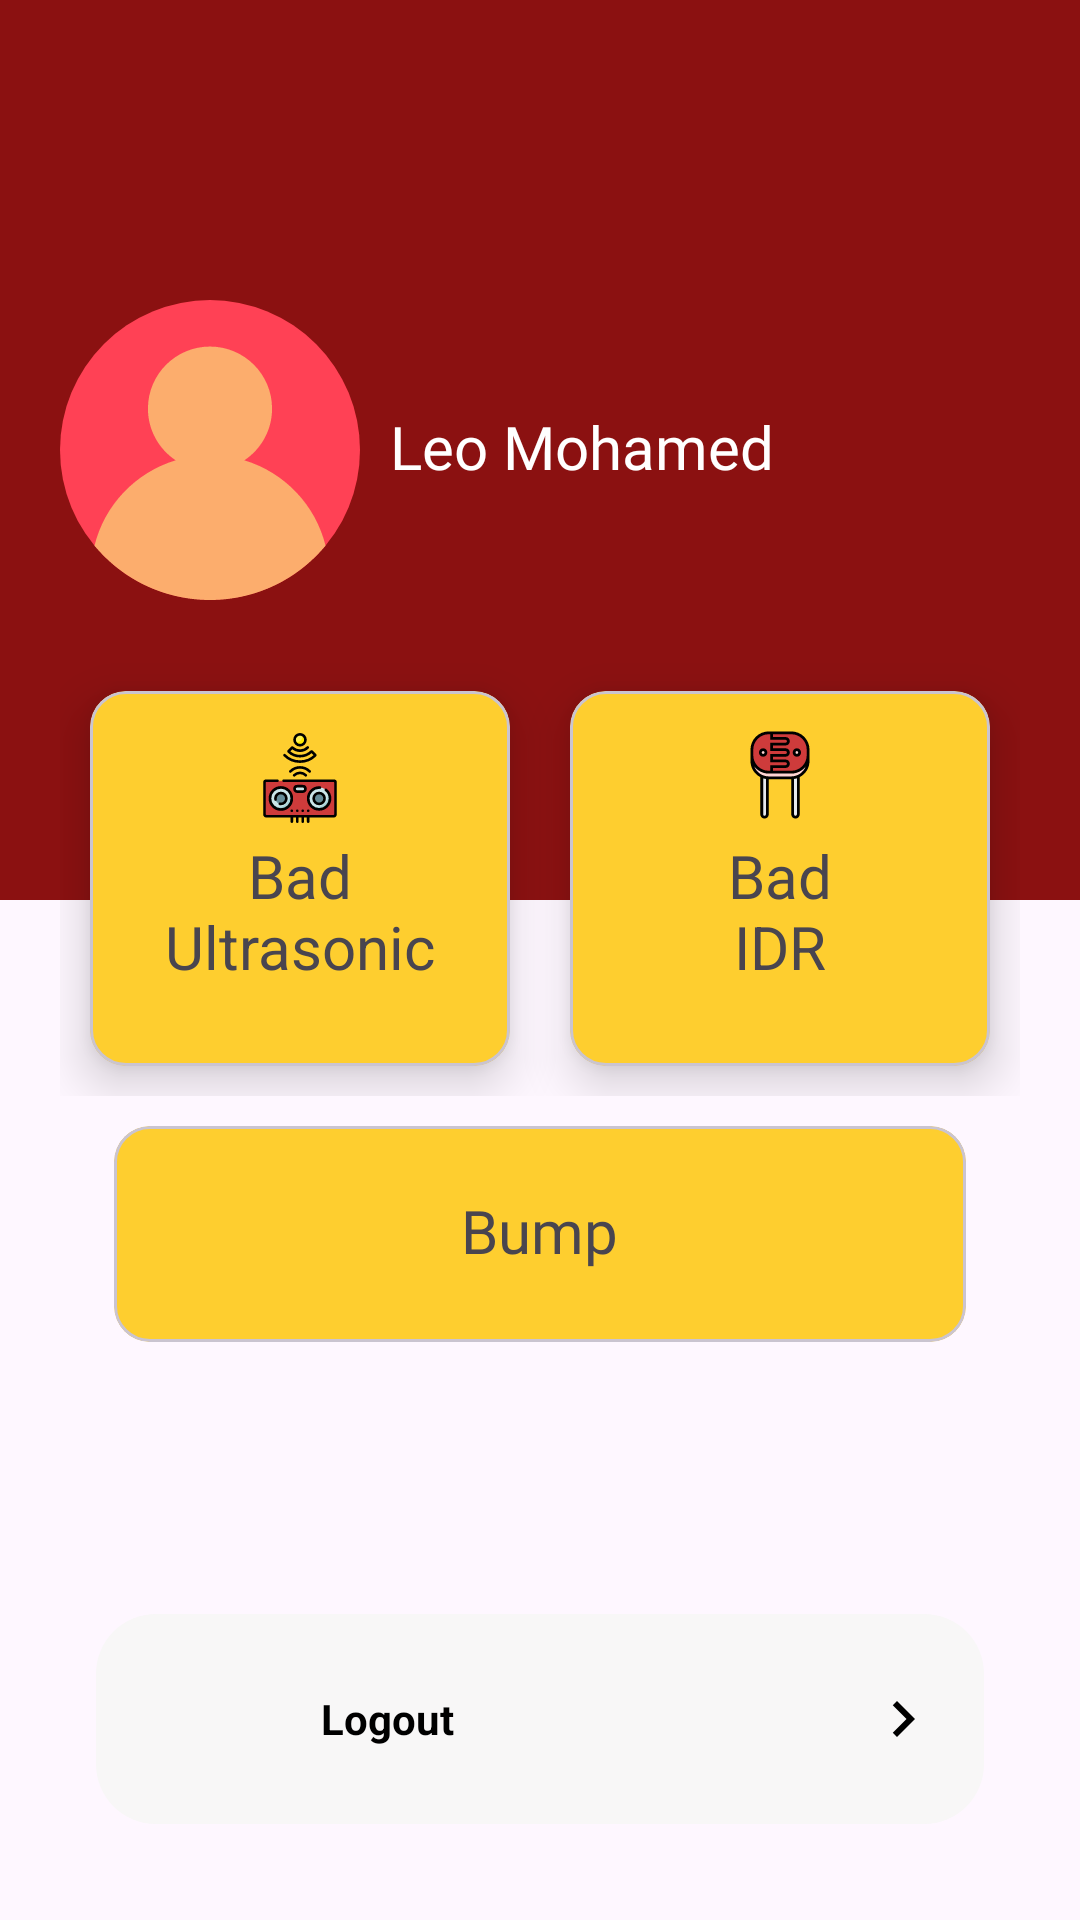

Named icons in this screenshot (1080 × 1920) and their centers, [x,y]:
right arrow: [904,1719]
user profile: [210,450]
